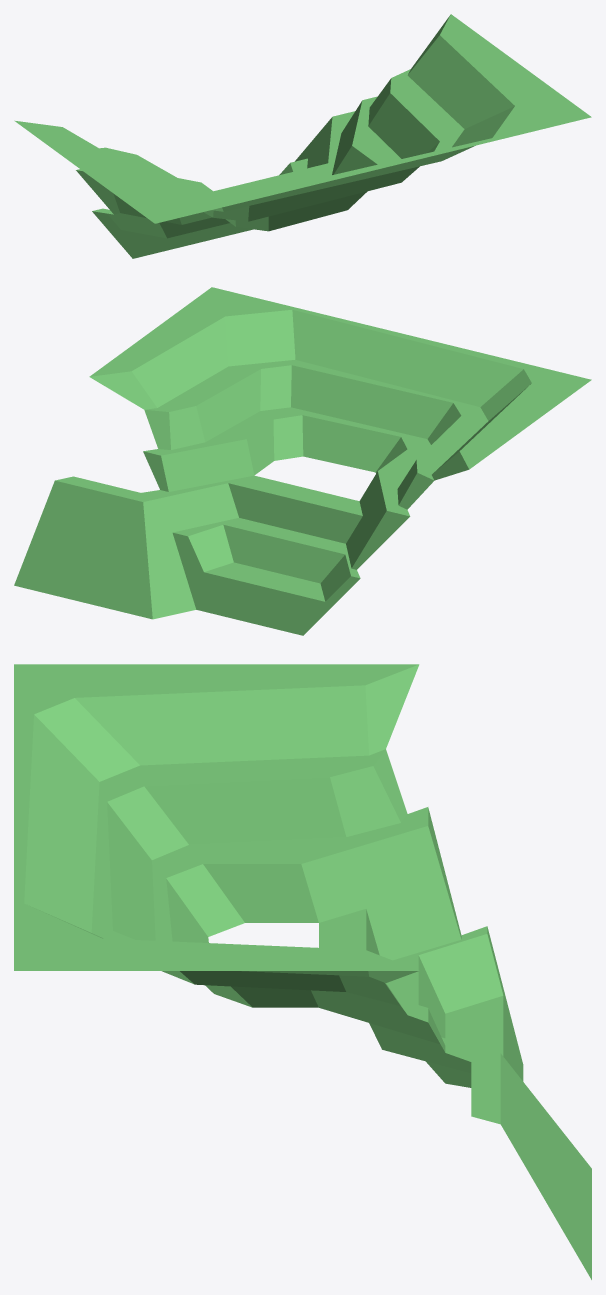
File: x_zem_1_8_part2_1_rmstrd.fbx
The picture shows the model from 3 angles, top to bottom: view 1: azimuth 30°, elevation 25°; view 2: azimuth 150°, elevation 25°; view 3: azimuth 270°, elevation 25°; orthographic projection. The views are drawn at different scales.
Visible parts, largest first — view 1: x_zem_1_8_part2_1_rmstrd1; view 2: x_zem_1_8_part2_1_rmstrd1; view 3: x_zem_1_8_part2_1_rmstrd1.
Part boxes in pixels (x1,y1,x2,y2): x_zem_1_8_part2_1_rmstrd1: [14, 14, 591, 258]; x_zem_1_8_part2_1_rmstrd1: [14, 287, 591, 635]; x_zem_1_8_part2_1_rmstrd1: [14, 664, 591, 1279].
Bounding box in the file's own units: 7.42 × 3.1 × 5.58.
